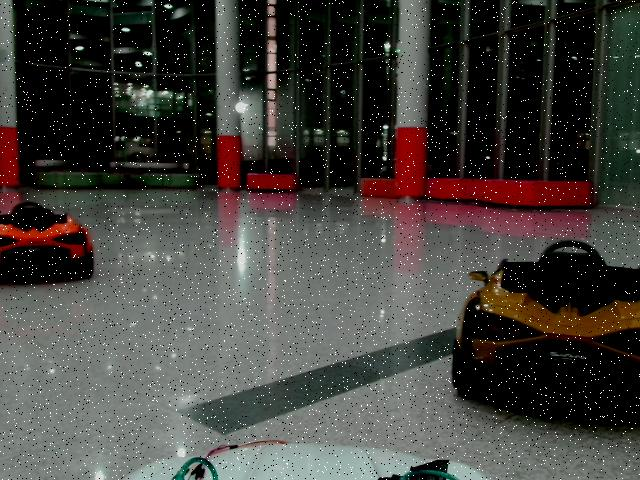car: (453, 240, 640, 420), (1, 203, 93, 287)
